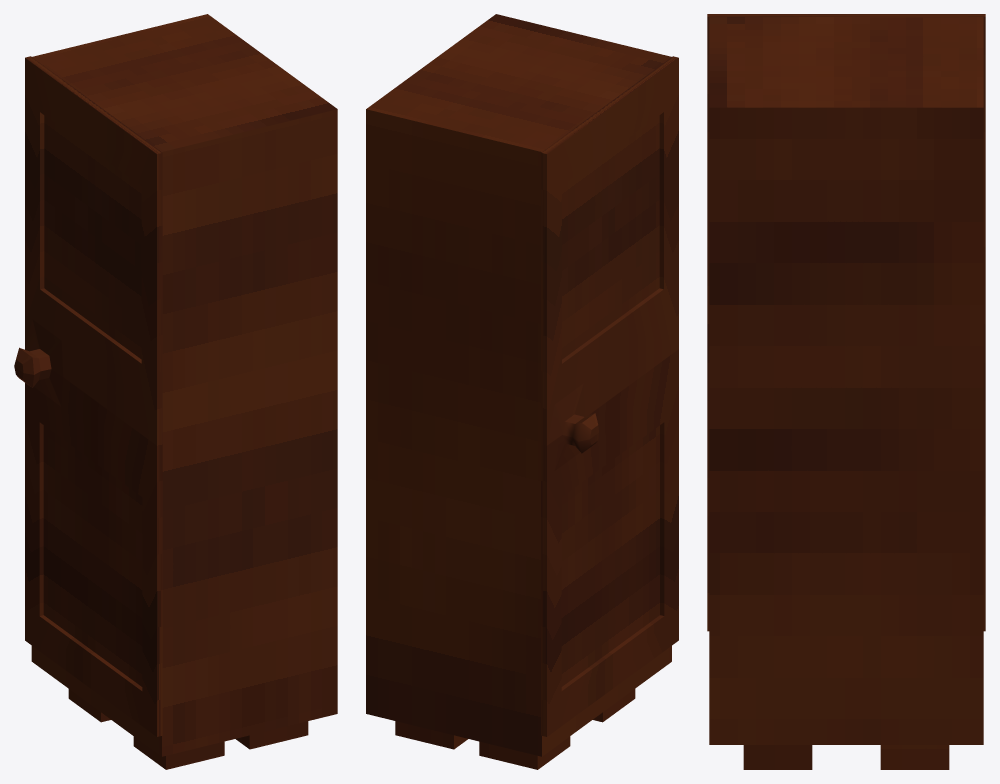
The model's file is cupboard.glb.
3 renders of one model, left to right at view 1: azimuth 30°, elevation 25°; view 2: azimuth 150°, elevation 25°; view 3: azimuth 270°, elevation 25°, orthographic. The views are drawn at different scales.
Parts seen in each view (by area): view 1: Cube, Cube.001; view 2: Cube, Cube.001; view 3: Cube, Cube.001.
Part boxes in pixels (left/top/right/bottom): Cube: left=31, top=14, right=337, bottom=769; Cube.001: left=14, top=56, right=162, bottom=736; Cube: left=366, top=14, right=671, bottom=769; Cube.001: left=541, top=56, right=678, bottom=736; Cube: left=709, top=17, right=983, bottom=769; Cube.001: left=707, top=14, right=985, bottom=631.
Size of the model in its own units: 0.5669 by 1.65 by 0.6208.
Materials: 1 (1 with a texture image).
